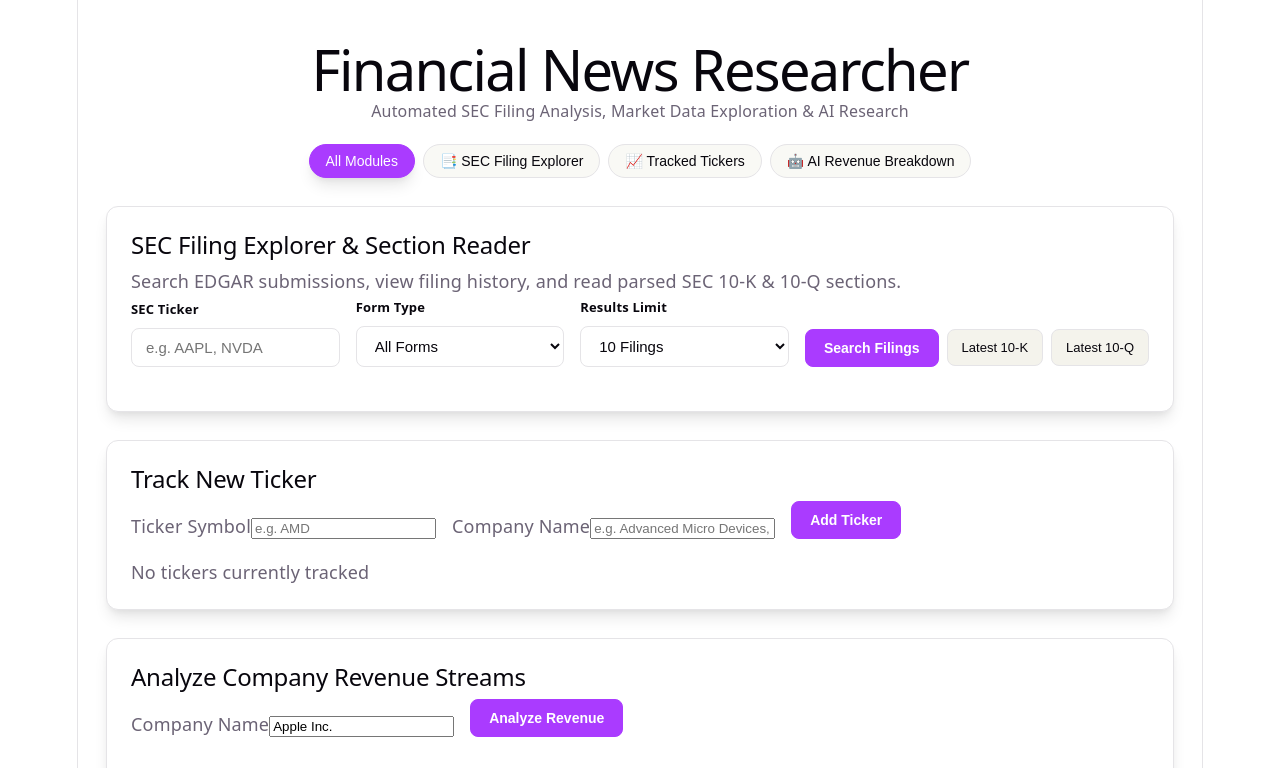
Test: App Component Integration Tests › displays error banner if creating ticker fails
Expected: the text "No tickers currently tracked" is shown, 131,560 -> 369,584
Type "AAPL" into the field labelled "Ticker Symbol" at (344, 528), box 251,518 -> 436,539
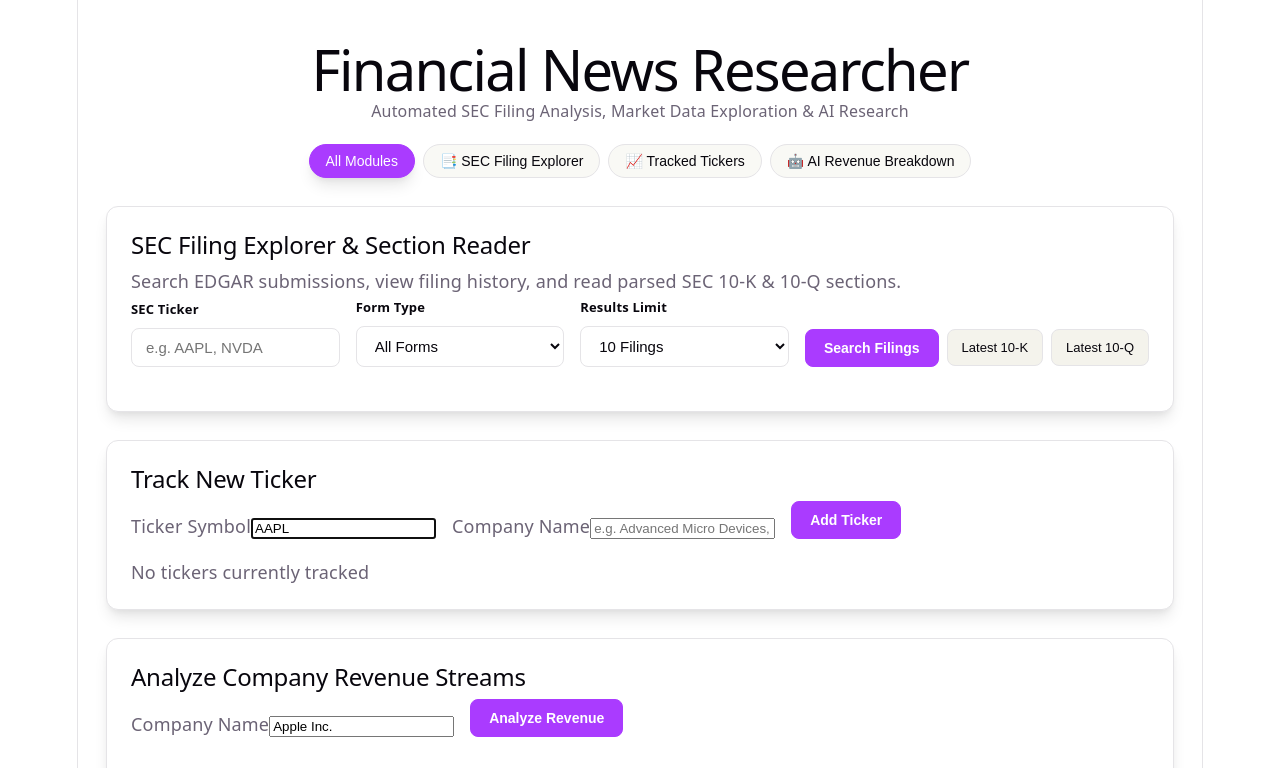
Type "Apple Inc." into the field labelled "Company Name" at (683, 528), box 590,518 -> 775,539
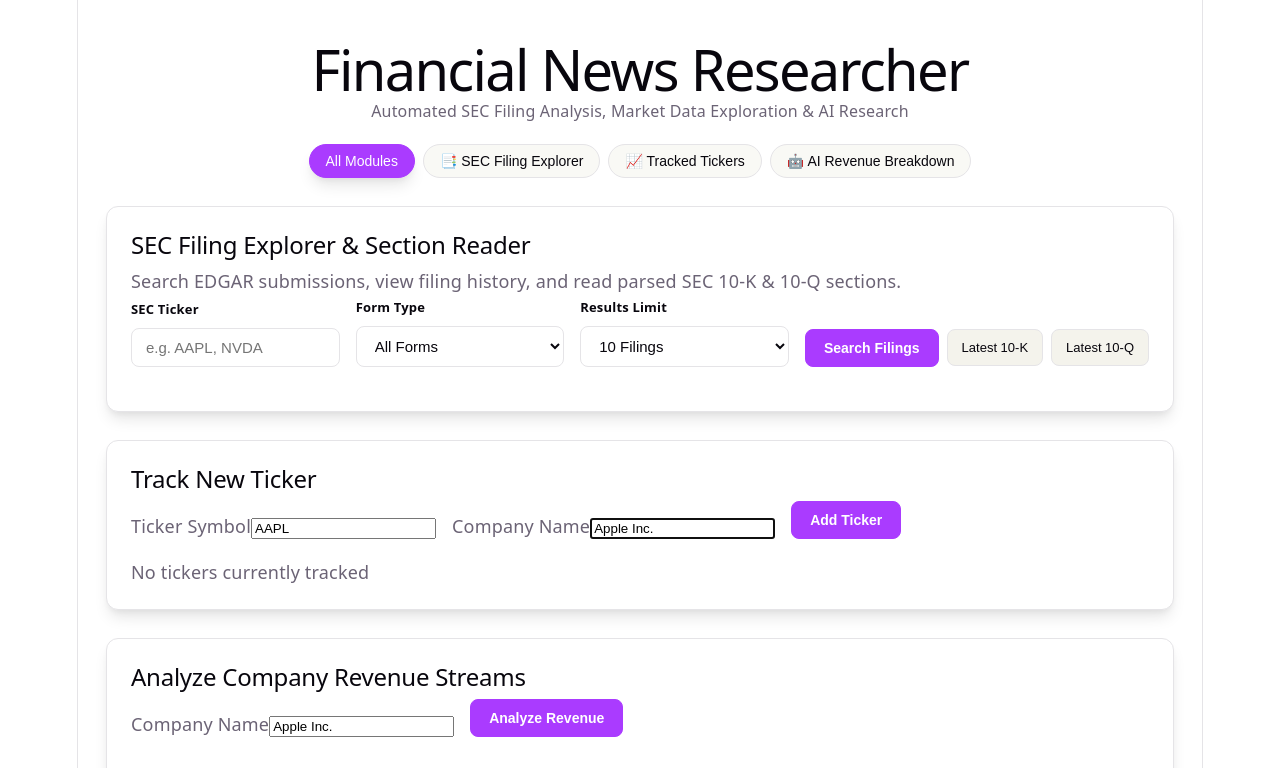
Click the button "Add Ticker" at (846, 520), box 791,501 -> 901,539
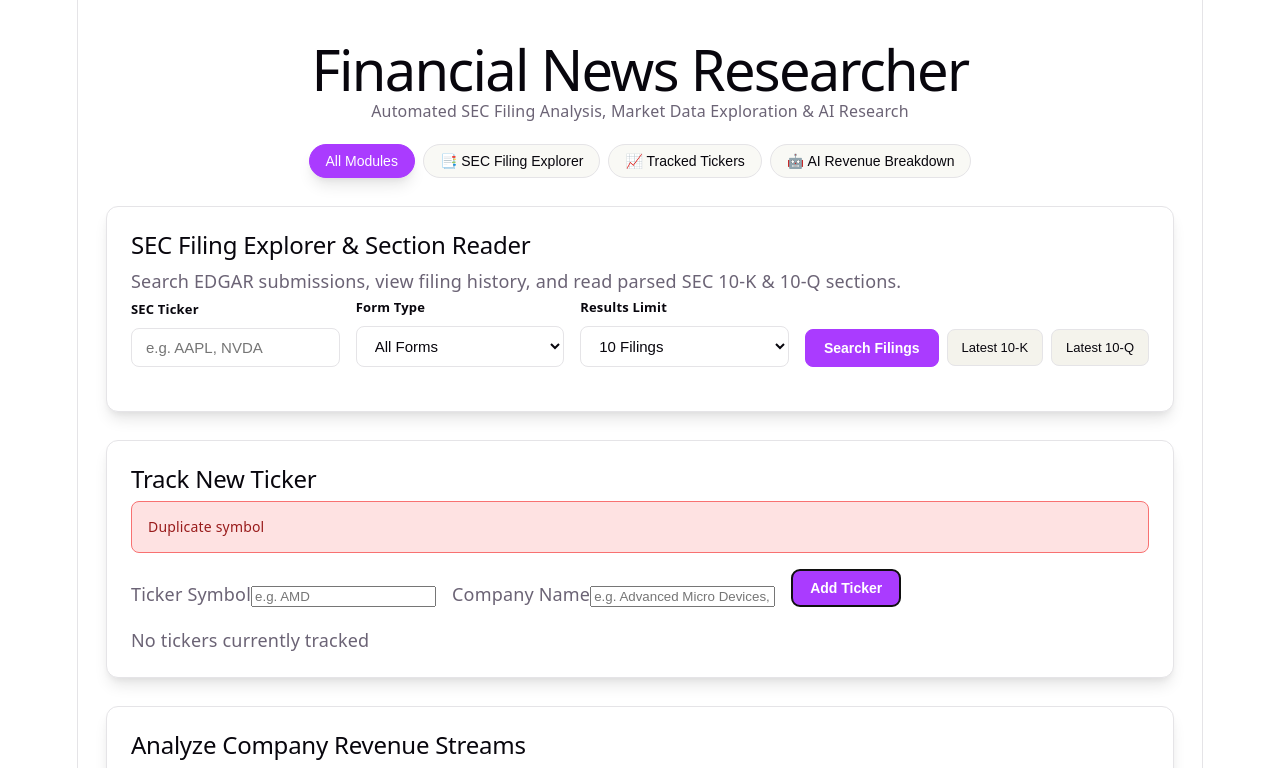
Result: the text "Duplicate symbol" is shown at 131,501 -> 1149,553
